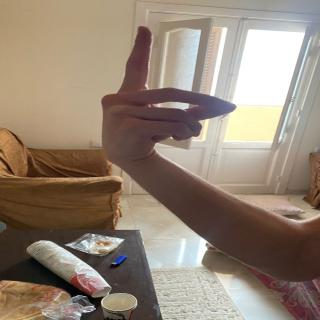TAA: (92, 10, 226, 178)
